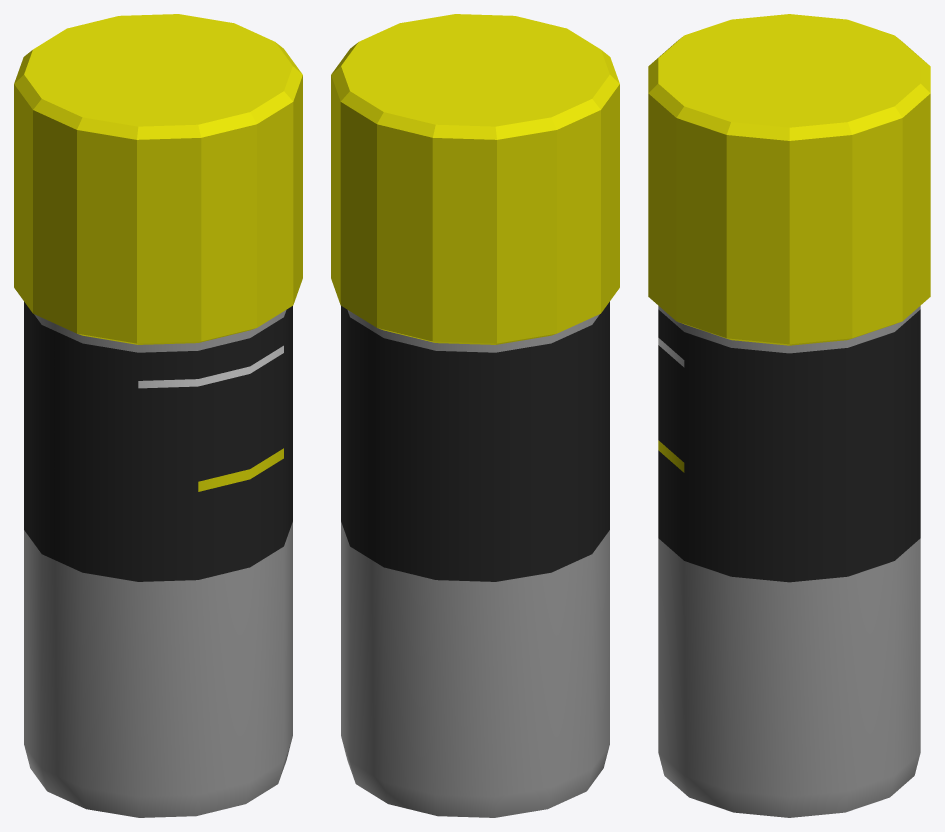
File: SprayPaint_Yellow.fbx
3 views of the same model, side by side, from view 1: azimuth 30°, elevation 25°; view 2: azimuth 150°, elevation 25°; view 3: azimuth 270°, elevation 25° (orthographic).
Visible parts, largest first — view 1: pCylinder3; view 2: pCylinder3; view 3: pCylinder3.
Part boxes in pixels (box(x1,y1,x2,y2)): pCylinder3: box(14, 14, 302, 817); pCylinder3: box(331, 14, 619, 817); pCylinder3: box(648, 14, 930, 817).
Bounding box in the file's own units: 3.04 × 8.04 × 2.97.
